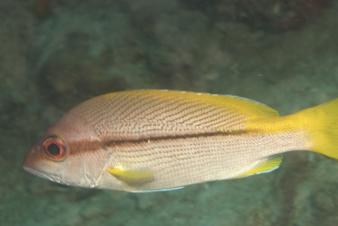Lutjanidae -Snappers-: (17, 85, 338, 197)
